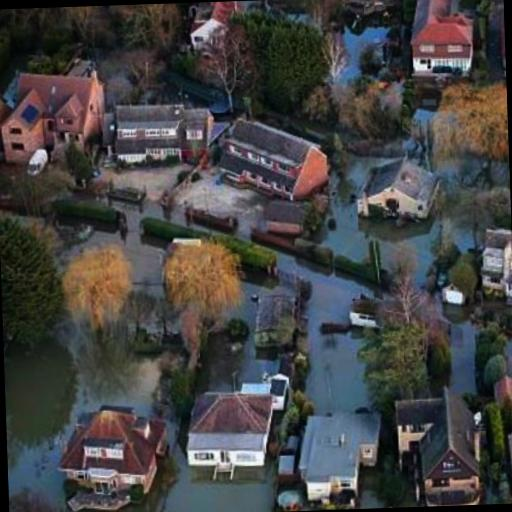flood: (3, 319, 170, 512), (281, 253, 372, 414), (118, 419, 275, 512), (82, 200, 164, 300), (321, 199, 404, 260), (201, 334, 278, 392), (232, 271, 274, 332), (341, 27, 387, 82), (451, 321, 478, 393), (404, 220, 440, 270), (346, 156, 387, 191), (453, 228, 473, 248), (171, 206, 184, 224), (508, 342, 512, 371)
house: (0, 63, 101, 165), (216, 118, 327, 208), (64, 403, 164, 498), (402, 388, 484, 500), (184, 382, 284, 470), (110, 98, 212, 170), (294, 412, 370, 503), (358, 155, 444, 228), (405, 0, 476, 88), (475, 224, 512, 302), (252, 296, 298, 350), (187, 1, 235, 51), (8, 489, 55, 512), (506, 428, 512, 487)
